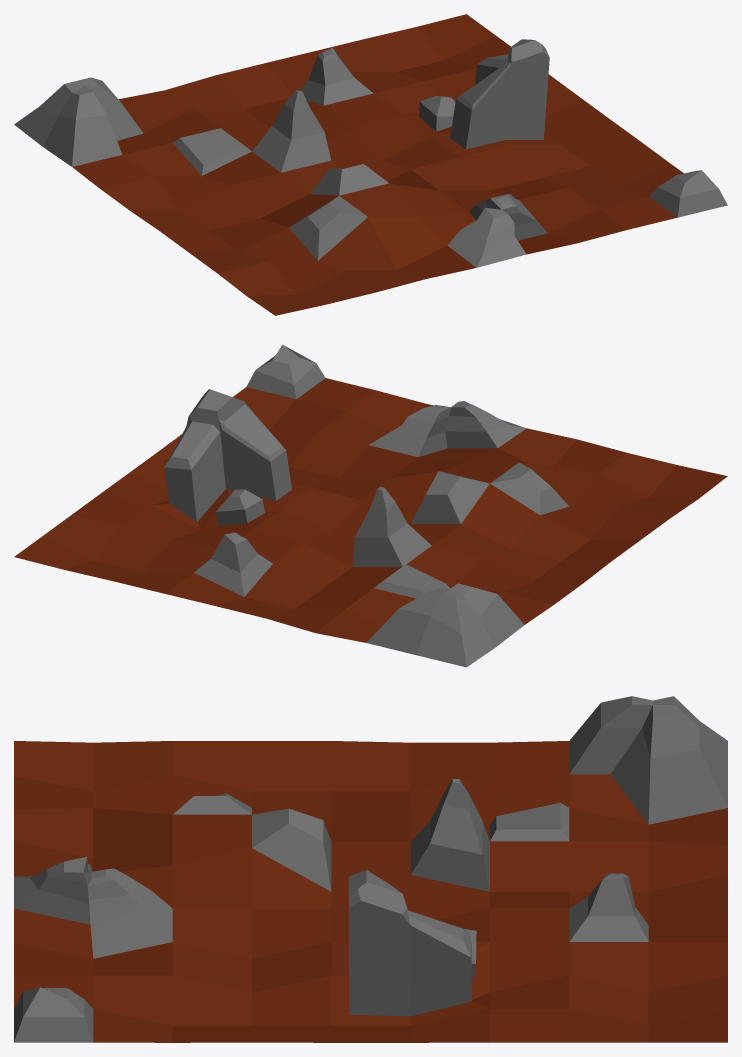
Rendered from Ceiling with rocks.fbx.
The picture shows the model from 3 angles, top to bottom: view 1: azimuth 30°, elevation 25°; view 2: azimuth 150°, elevation 25°; view 3: azimuth 270°, elevation 25°; orthographic projection. The views are drawn at different scales.
Visible parts, largest first — view 1: Grid; view 2: Grid; view 3: Grid.
Part boxes in pixels (x1=…): Grid: x1=14, y1=14, x2=727, y2=315; Grid: x1=14, y1=344, x2=727, y2=667; Grid: x1=14, y1=696, x2=727, y2=1042.
Size of the model in its own units: 505 by 105 by 505.
